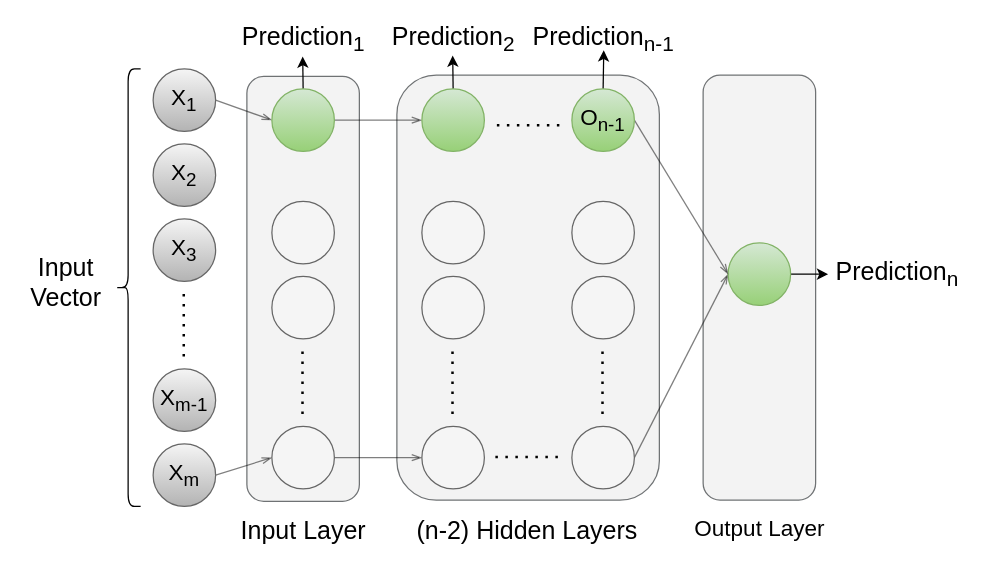
Some shapes in this 986 by 568 pixel diagram are drawn without their labels. The centre of each missing label's shape, as x and y in pixels:
"O 1" goes at pixel 302 119.
"O 2" goes at pixel 452 119.
"O n" goes at pixel 759 273.
